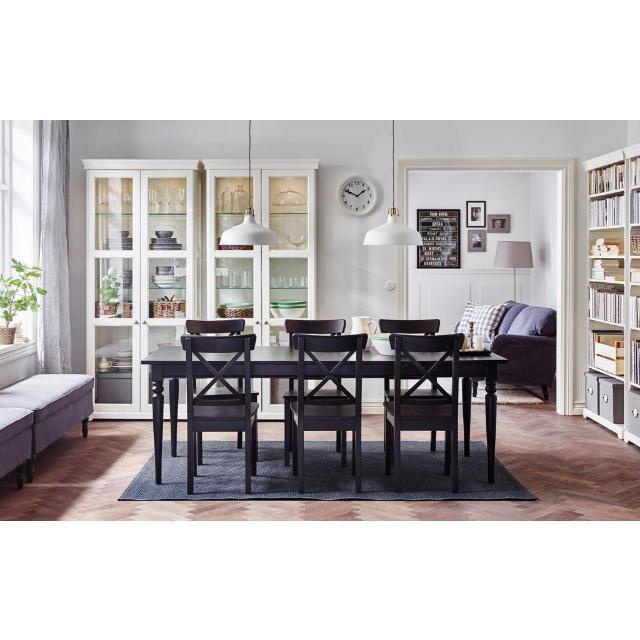chair: (181, 335, 259, 493), (384, 334, 461, 492), (290, 334, 365, 493), (285, 318, 346, 346), (185, 318, 245, 335), (379, 318, 440, 333)
clock: (339, 175, 378, 215)
couch: (454, 300, 556, 398)
curtain: (39, 119, 71, 373)
lamp: (494, 240, 534, 300)
light: (362, 119, 421, 245), (220, 119, 279, 245)
plant: (0, 258, 46, 343)
rug: (119, 440, 534, 500)
shelf: (82, 159, 202, 418), (205, 159, 319, 345), (582, 143, 640, 445)
wall-art: (416, 208, 460, 267), (466, 200, 486, 226), (468, 228, 486, 251), (488, 214, 510, 232)
